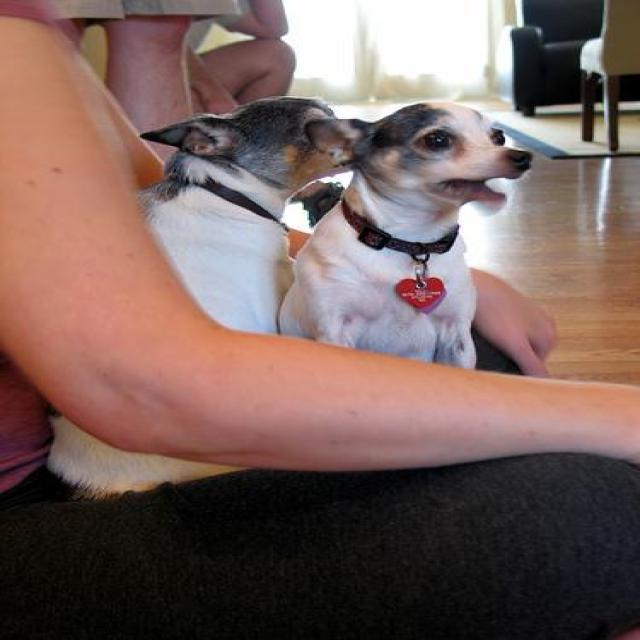toy_terrier: (270, 97, 539, 374)
